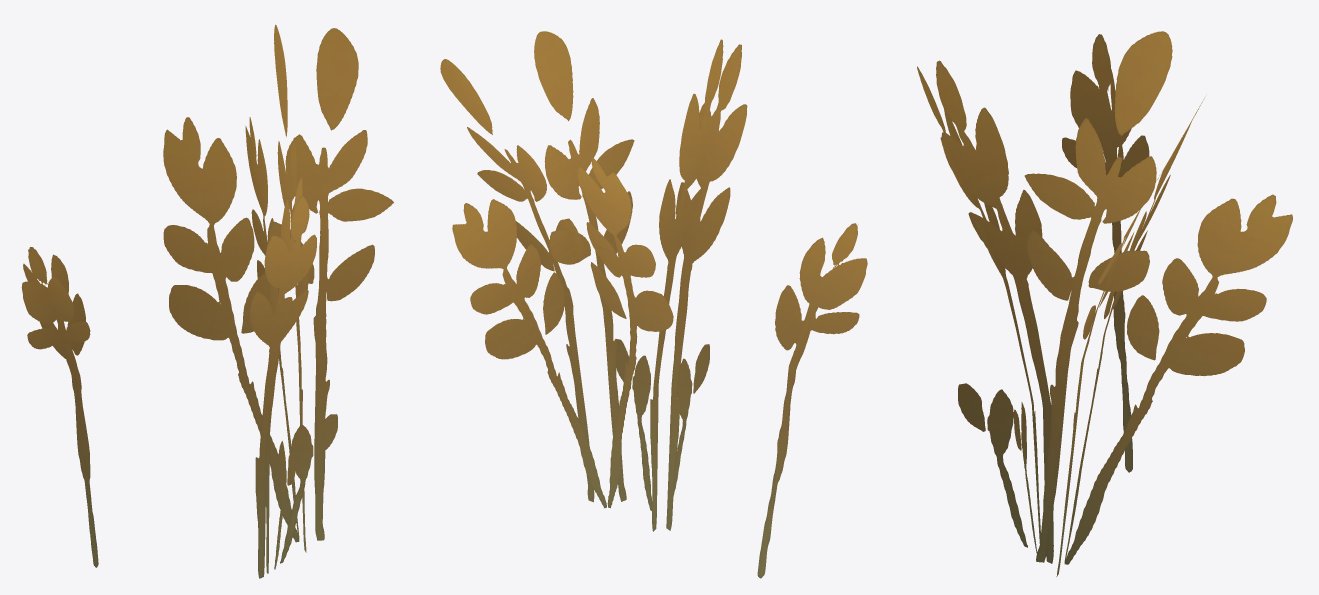
File: F_SandWeed_B.FBX
3 renders of one model, left to right at view 1: azimuth 30°, elevation 25°; view 2: azimuth 150°, elevation 25°; view 3: azimuth 270°, elevation 25°, orthographic. The views are drawn at different scales.
Parts seen in each view (by area): view 1: F_SandWeed_B; view 2: F_SandWeed_B; view 3: F_SandWeed_B.
Part boxes in pixels (left/top/right/bottom): F_SandWeed_B: left=21, top=24, right=393, bottom=578; F_SandWeed_B: left=440, top=31, right=867, bottom=578; F_SandWeed_B: left=917, top=31, right=1292, bottom=576.
Bounding box in the file's own units: 46.89 × 59.41 × 36.72.
Materials: 1 (1 with a texture image).
